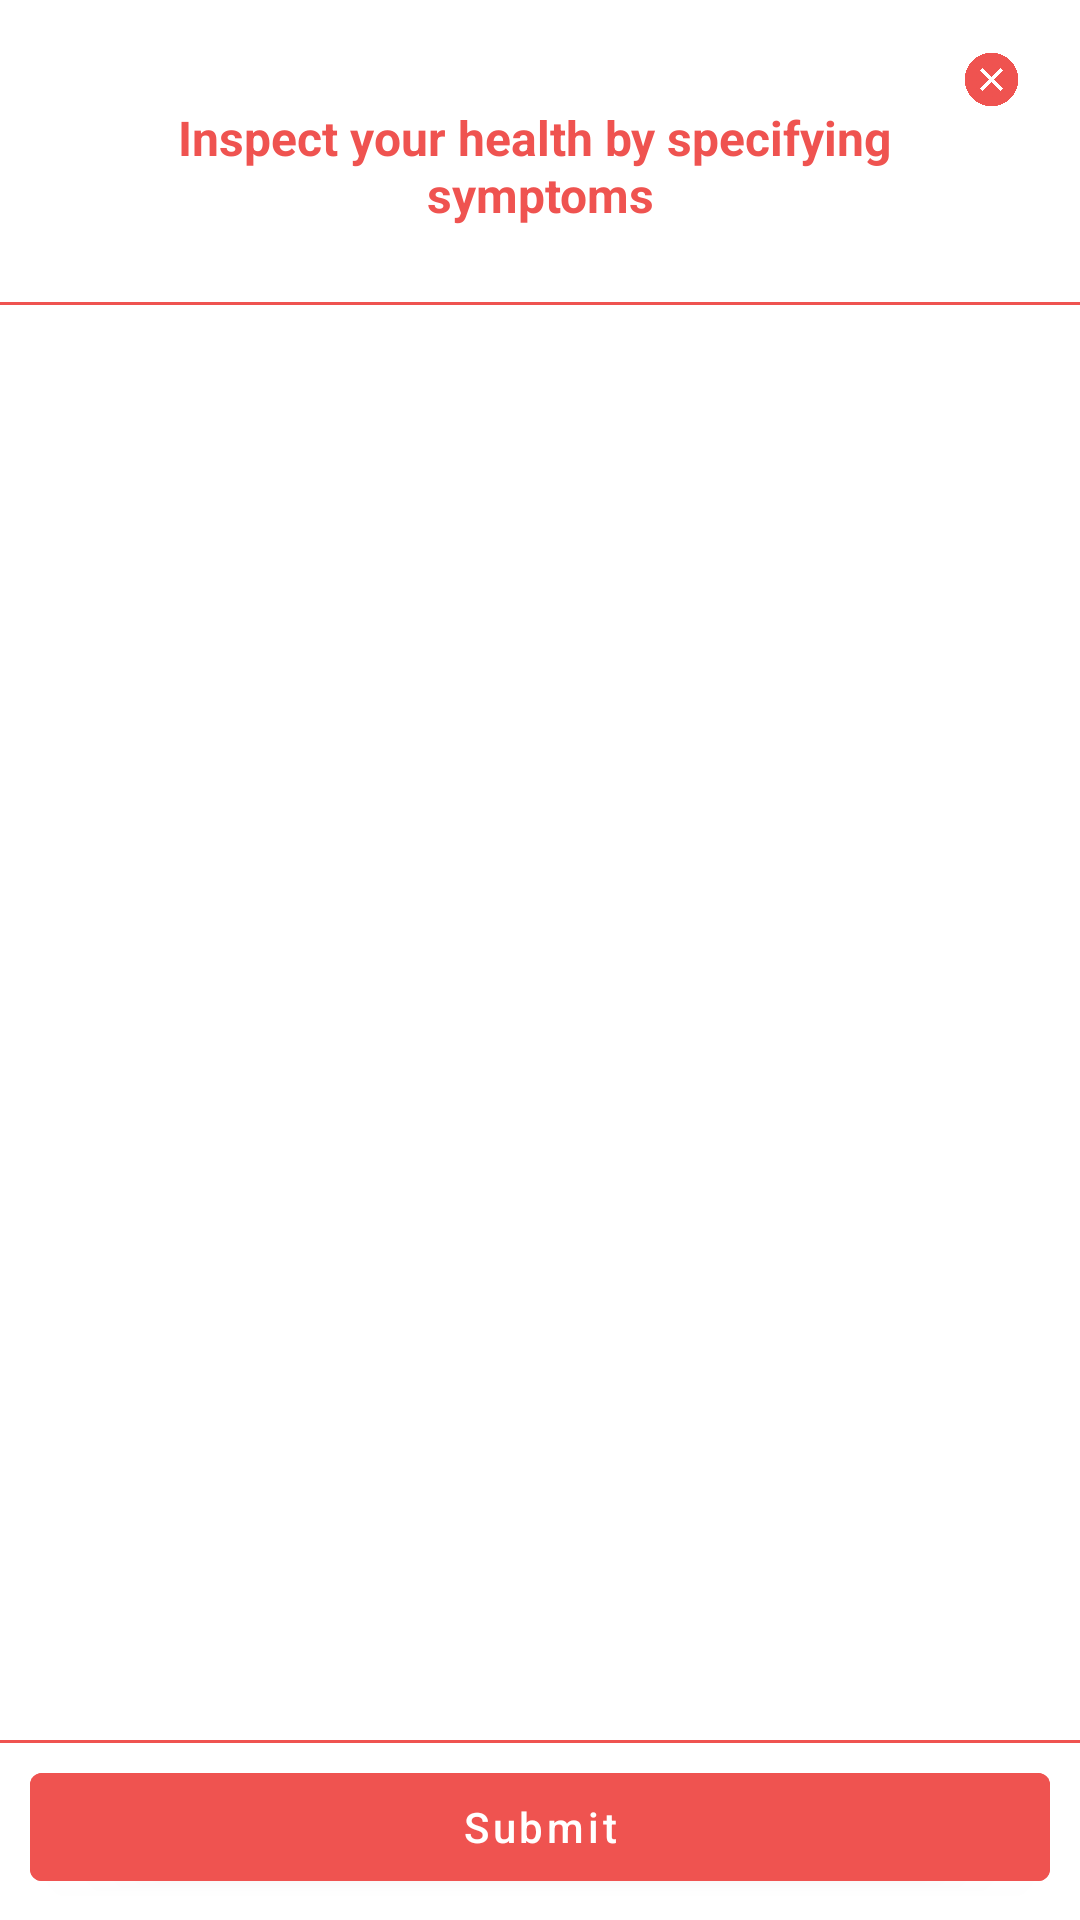

Where icons sit on this 1080*1920 app screen, as box=[x1, y1, x2, y2]:
cross: box=[965, 53, 1018, 106]
